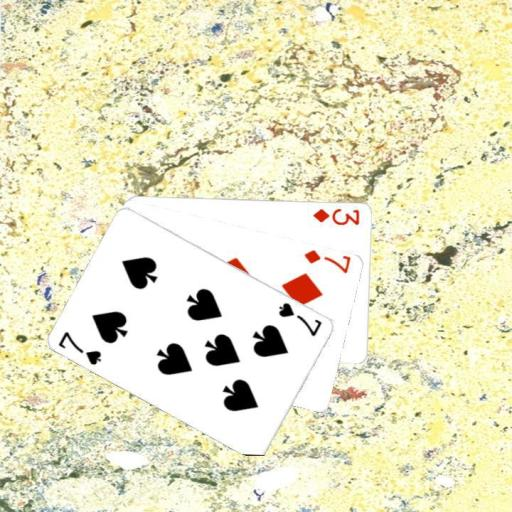3D: (310, 205, 361, 227)
7D: (301, 246, 352, 275)
7S: (275, 299, 324, 338), (55, 328, 104, 367)
